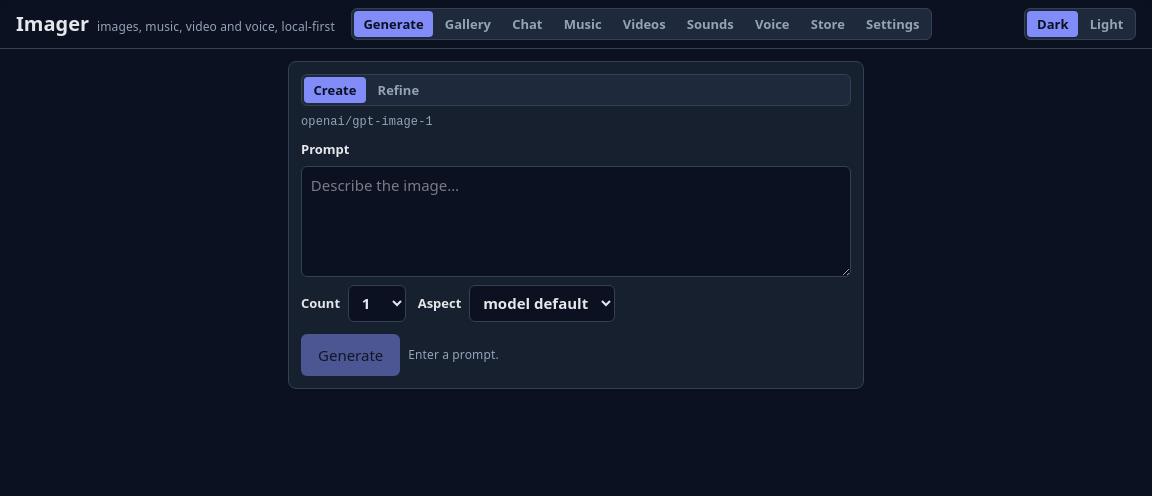
it: no source chosen → Refine disabled with the reason, and no request is sent
Step 1. Click the tab "Refine" → (398, 90), box [368,77,429,103]
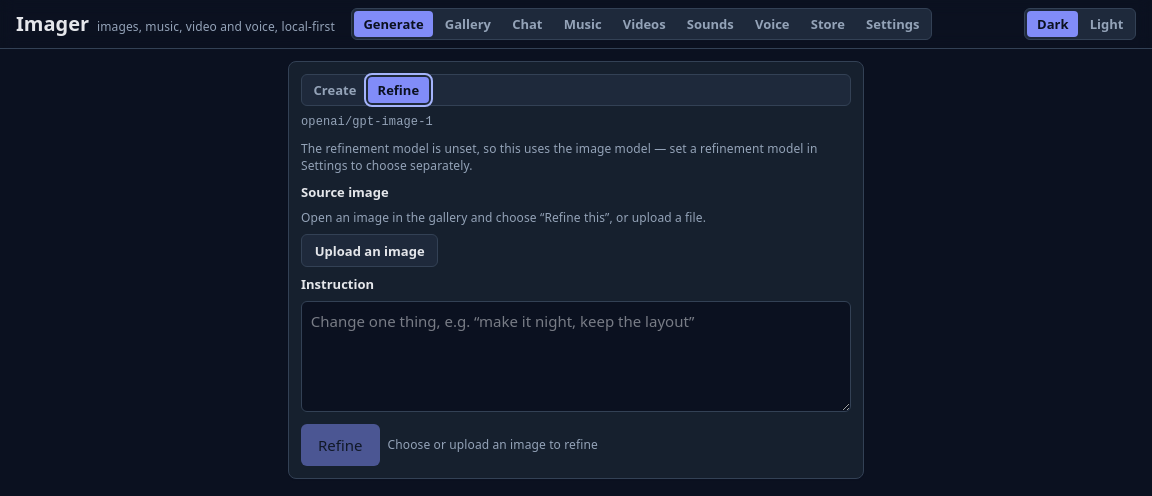
Expected: the button "Refine" is disabled, [301,424,380,466]
Expected: the button "Refine" is shown, [301,424,380,466]
Expected: the text "Choose or upload an image to refine" is shown, [388,436,598,454]
